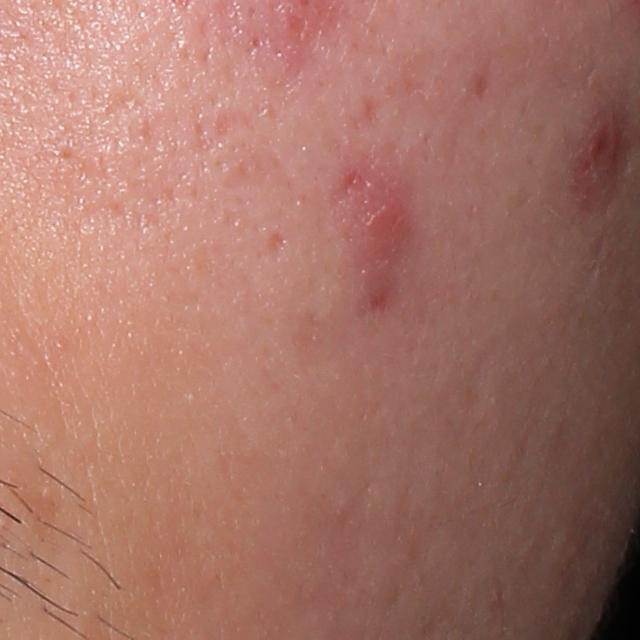atrophic_scar: (255, 223, 290, 264)
papule: (569, 118, 635, 210), (355, 176, 410, 251)
